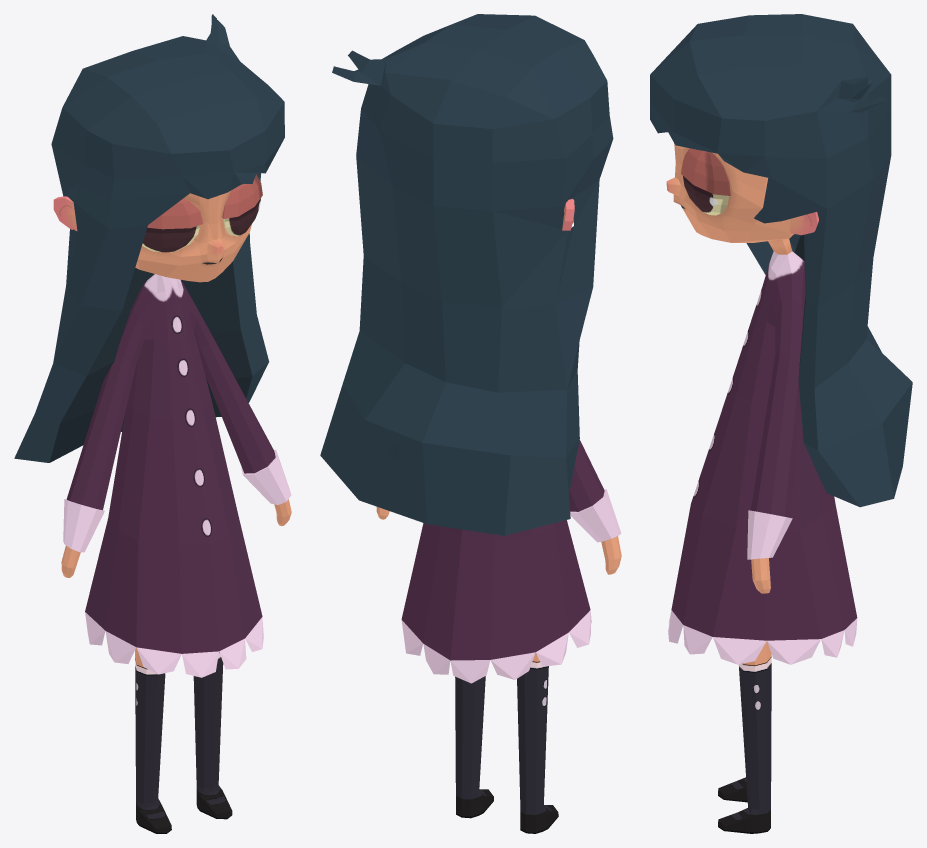
The model's file is low_poly_little_girl.glb.
3 renders of one model, left to right at view 1: azimuth 30°, elevation 25°; view 2: azimuth 150°, elevation 25°; view 3: azimuth 270°, elevation 25°, orthographic. The views are drawn at different scales.
Visible parts, largest first — view 1: Object_3, Object_2; view 2: Object_2, Object_3; view 3: Object_2, Object_3.
Boxes of the visible parts, box(x1,y1,x2,y2) form: Object_3: box(53, 190, 291, 833); Object_2: box(14, 14, 284, 462); Object_2: box(320, 14, 613, 535); Object_3: box(376, 199, 621, 833); Object_2: box(650, 14, 912, 507); Object_3: box(666, 143, 857, 833).
Size of the model in its own units: 1.08 by 3.23 by 0.9865.
2 materials, 2 textured.
